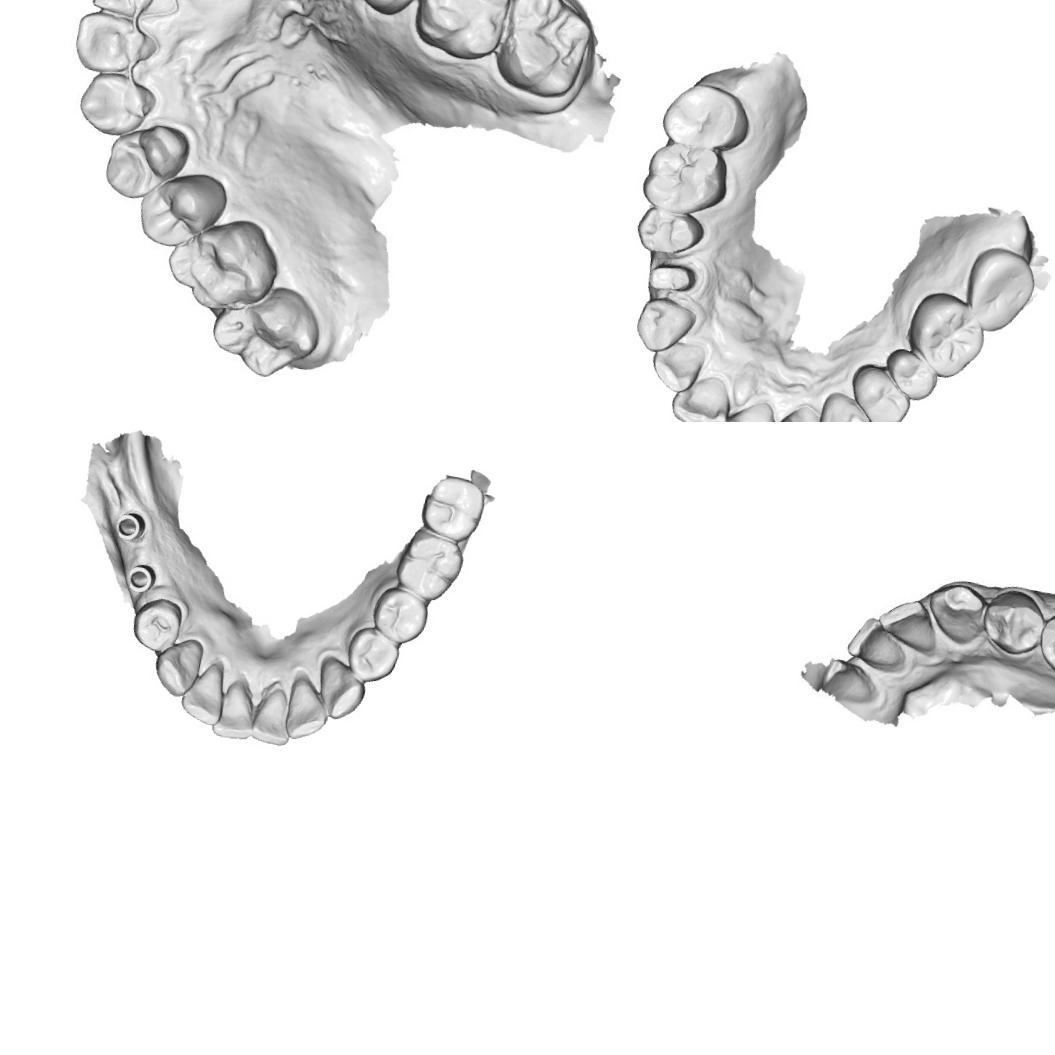canine: (74, 64, 158, 142), (924, 577, 992, 654), (631, 290, 700, 358), (311, 654, 371, 723), (148, 631, 206, 700), (812, 387, 875, 422)
crown: (644, 253, 707, 298)
implant: (111, 506, 148, 544), (122, 560, 157, 596)
incisor: (68, 3, 156, 80), (841, 613, 917, 681), (280, 674, 334, 746), (176, 656, 230, 728), (666, 367, 736, 422), (880, 596, 944, 656), (646, 336, 707, 396), (209, 675, 262, 744), (248, 681, 298, 748), (84, 0, 180, 23), (716, 392, 784, 422), (770, 397, 829, 422)
molar: (159, 209, 286, 326), (202, 274, 327, 390), (492, 0, 602, 107), (900, 284, 992, 384), (638, 136, 734, 222), (656, 76, 755, 158), (958, 241, 1040, 339), (407, 0, 522, 66), (390, 524, 468, 606), (414, 468, 490, 547)
premolar: (125, 166, 230, 256), (98, 113, 194, 208), (980, 582, 1052, 659), (843, 358, 917, 422), (632, 202, 708, 261), (366, 584, 433, 649), (340, 622, 404, 688), (879, 344, 943, 404), (126, 592, 186, 656), (1039, 603, 1055, 678)
